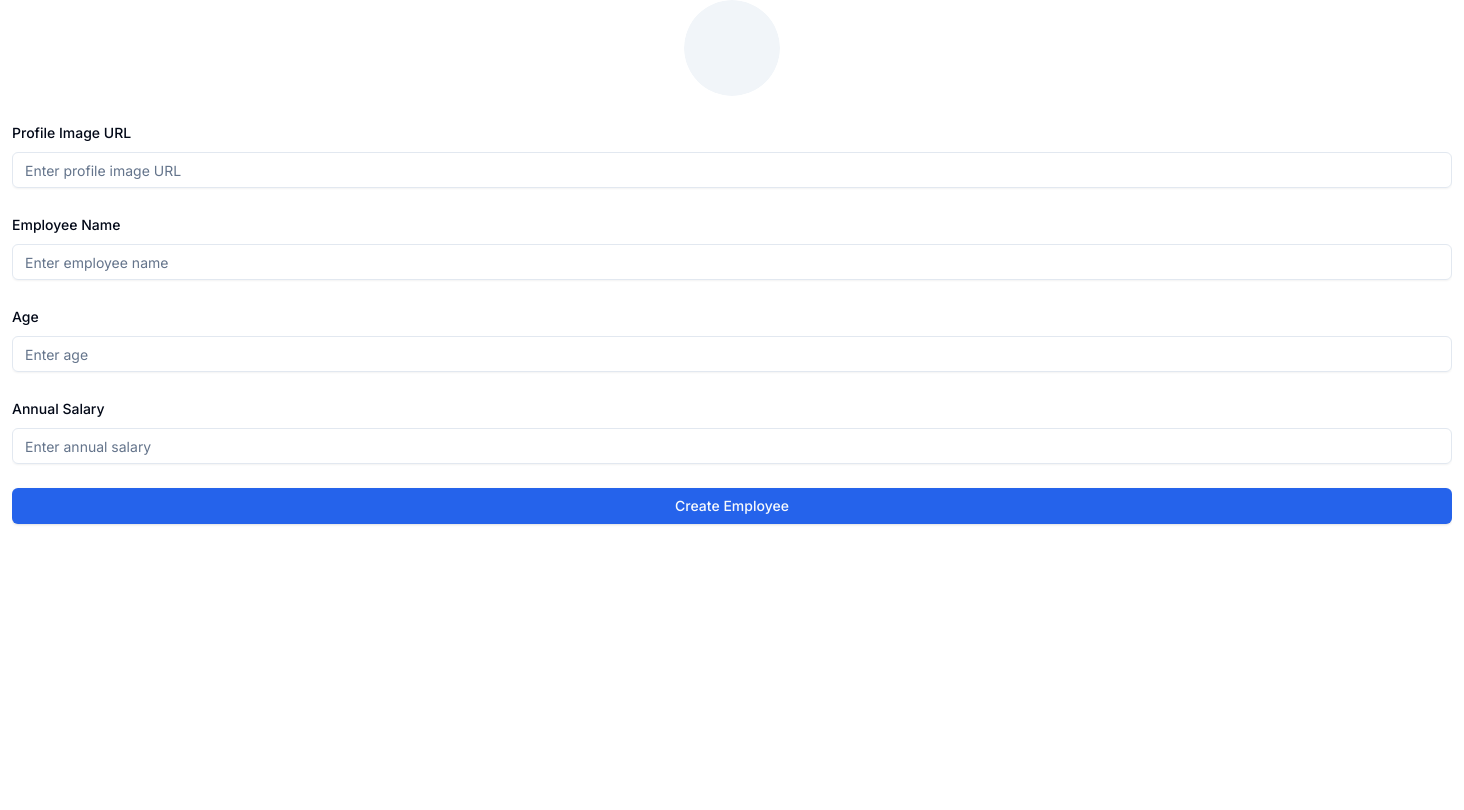
Scenario: EmployeeForm › validates required fields
The width and height of the screenshot is (1464, 810).
What coordinates should you click on to do the following:
click the button "Create Employee"
I would click on:
 (732, 506)
Its box is [12,488,1452,524].
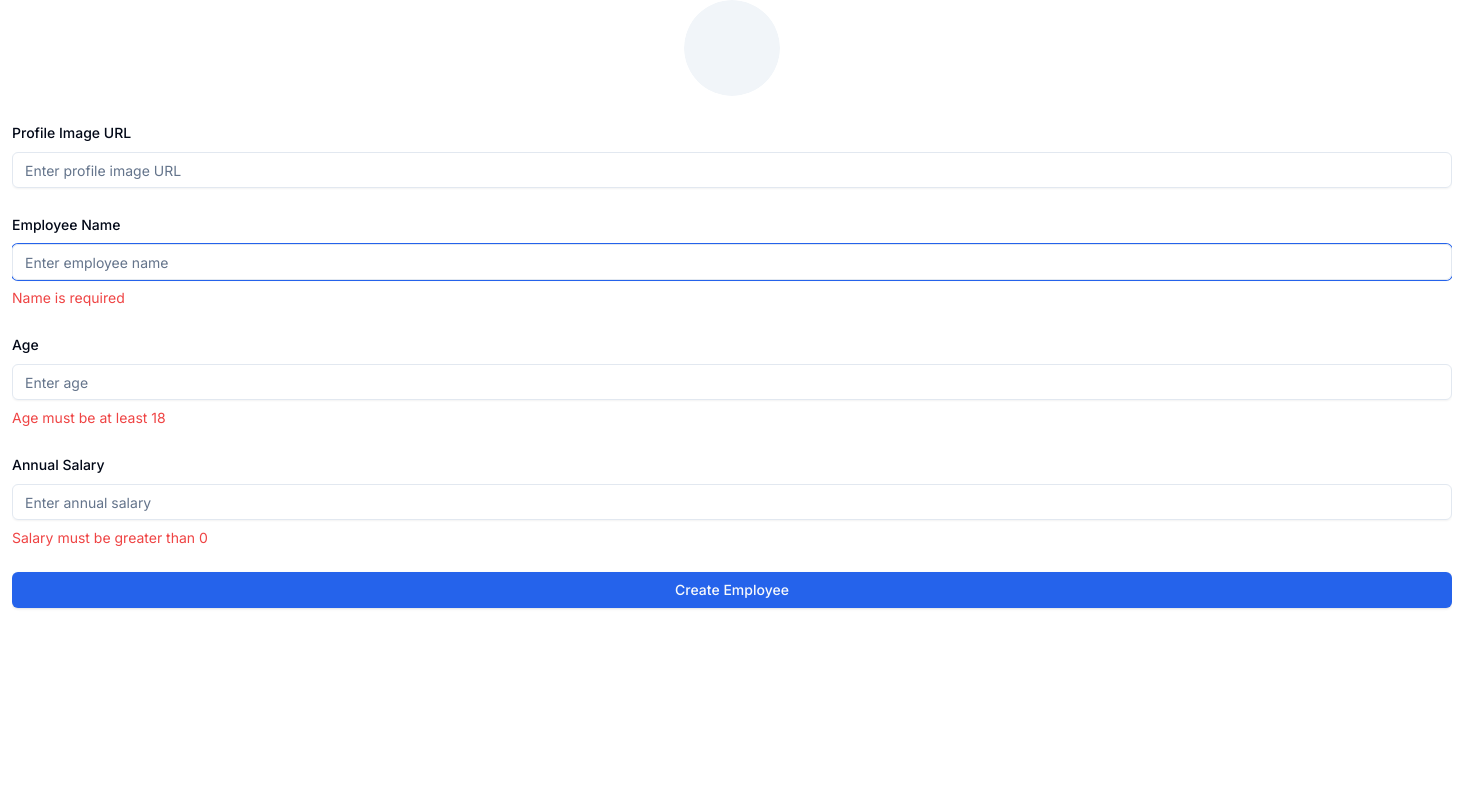
Check: the text "Name is required" is shown, box [12,289,125,306]
Check: the text "Salary must be greater than 0" is shown, box [12,529,208,546]
Check: the text "Age must be at least 18" is shown, box [12,409,166,426]
